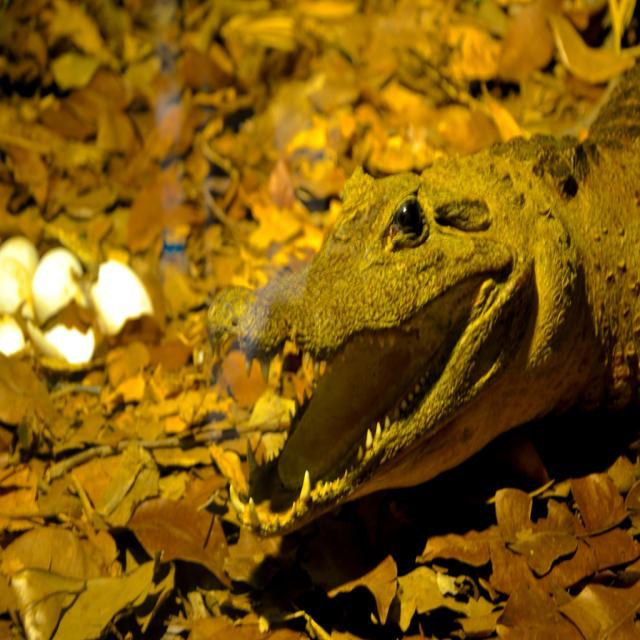crocodile: (230, 62, 635, 533)
